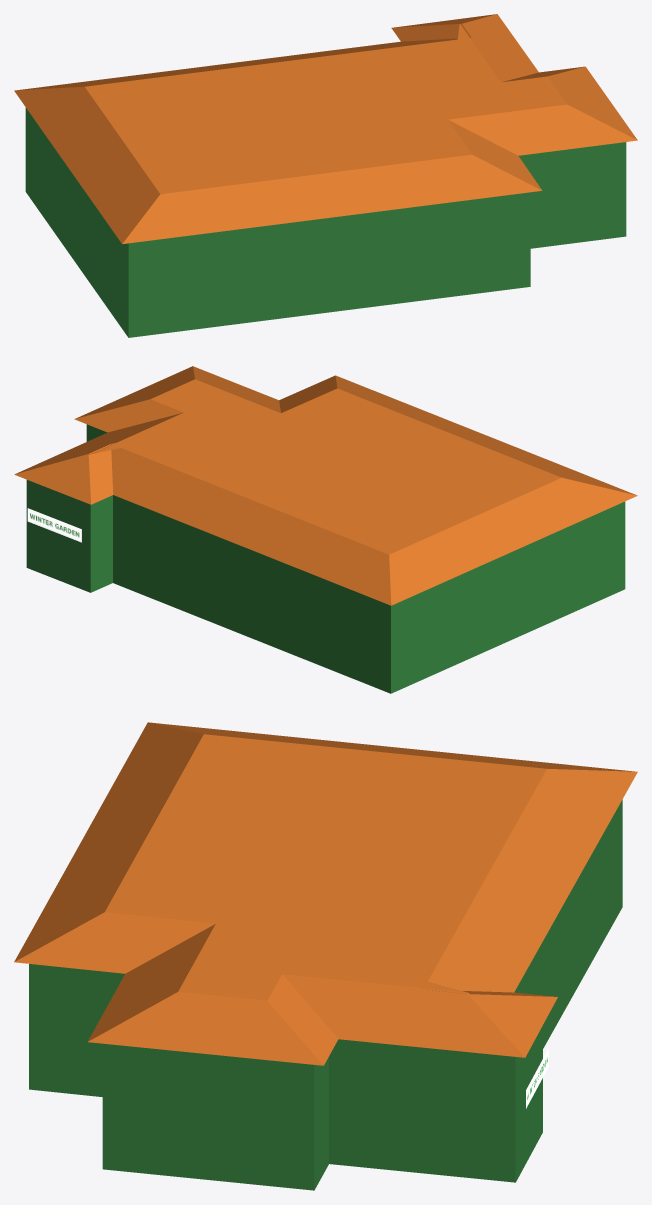
The model's file is wintergarden.glb.
3 views of the same model, one above another, from view 1: azimuth 30°, elevation 25°; view 2: azimuth 150°, elevation 25°; view 3: azimuth 270°, elevation 25° (orthographic). The views are drawn at different scales.
Parts seen in each view (by area): view 1: wintergarden_lod0; view 2: wintergarden_lod0; view 3: wintergarden_lod0.
Boxes of the visible parts, bbox=[...] form: wintergarden_lod0: bbox=[14, 14, 637, 337]; wintergarden_lod0: bbox=[14, 366, 637, 693]; wintergarden_lod0: bbox=[14, 722, 637, 1190].
Size of what is drawn, in the model's own units: 38.75 by 8.3 by 29.75.
4 materials, 2 textured.
